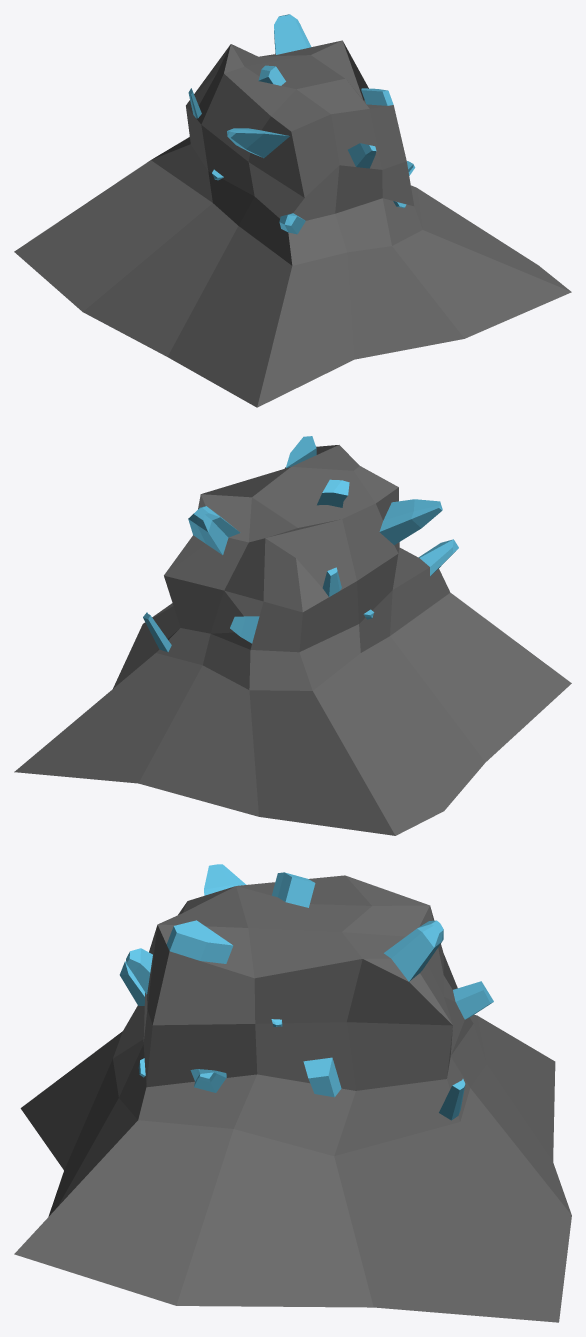
File: Ore2.fbx
The picture shows the model from 3 angles, top to bottom: view 1: azimuth 30°, elevation 25°; view 2: azimuth 150°, elevation 25°; view 3: azimuth 270°, elevation 25°; orthographic projection. The views are drawn at different scales.
Parts seen in each view (by area): view 1: Cube; view 2: Cube; view 3: Cube.
Boxes of the visible parts, x1,y1,x2,y2 form: Cube: [14, 14, 571, 407]; Cube: [14, 436, 571, 835]; Cube: [14, 864, 571, 1322].
Bounding box in the file's own units: 703 × 726 × 449.
